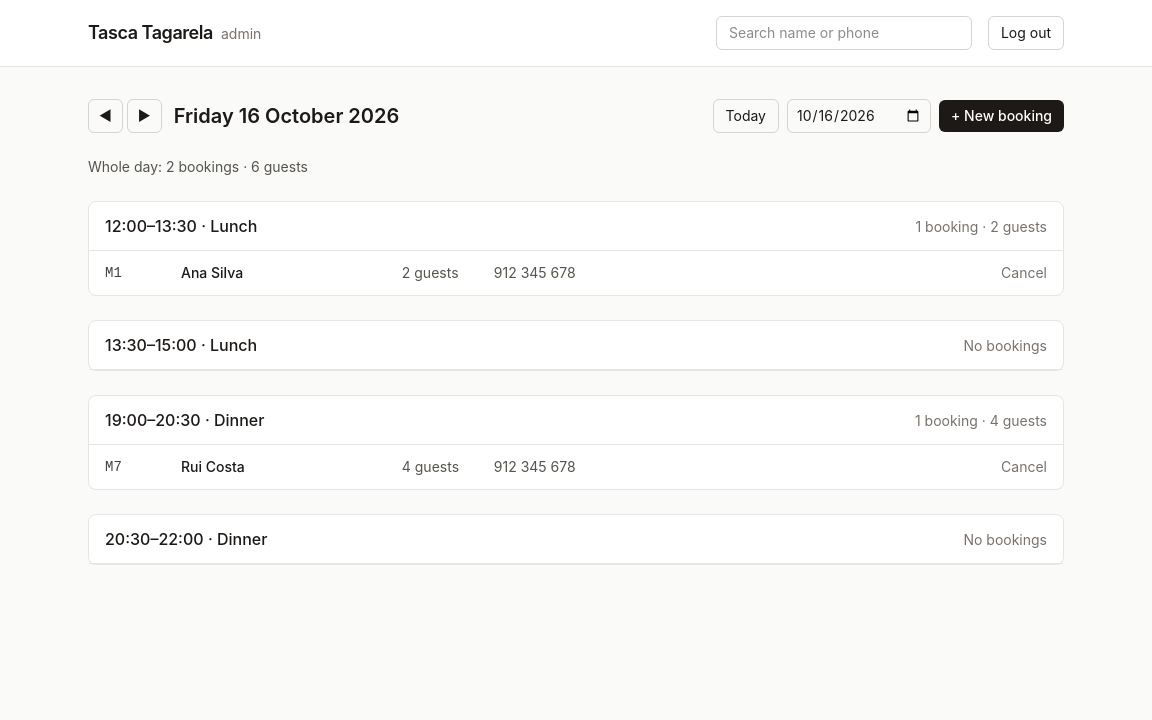
Scenario: cancelling from the day view › shows the server message if the cancellation is refused
Click the button with aria-label "Cancel booking for Ana Silva" at (1024, 273), box [1001,263,1047,283]
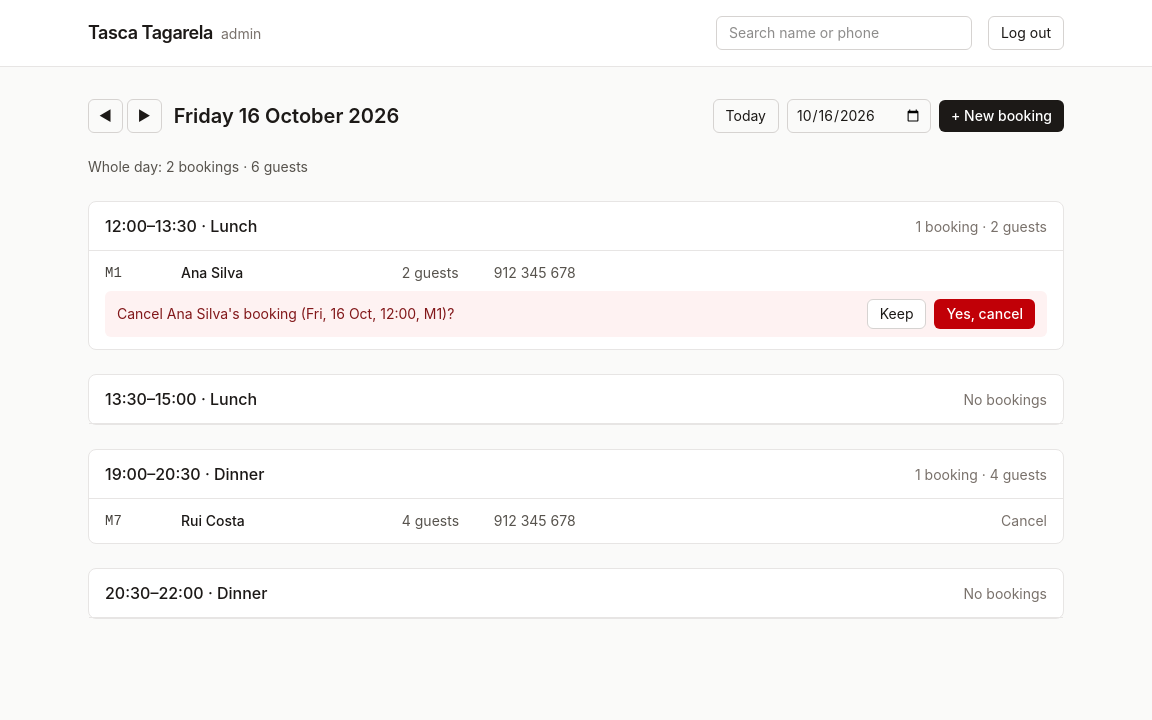
Click the button "Yes, cancel" at (985, 314), box [934,299,1035,329]
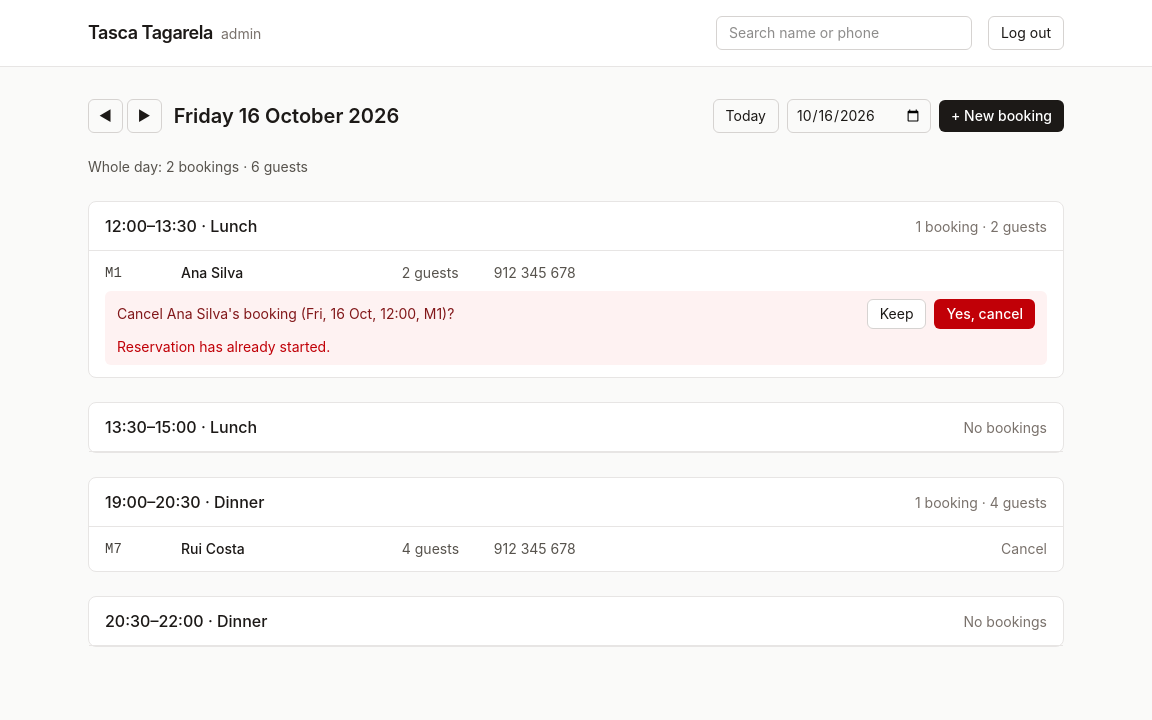
Expected: the text "Ana Silva" is shown, [181,264,243,281]
Expected: the message reads "Reservation has already started.", [117,338,330,355]
